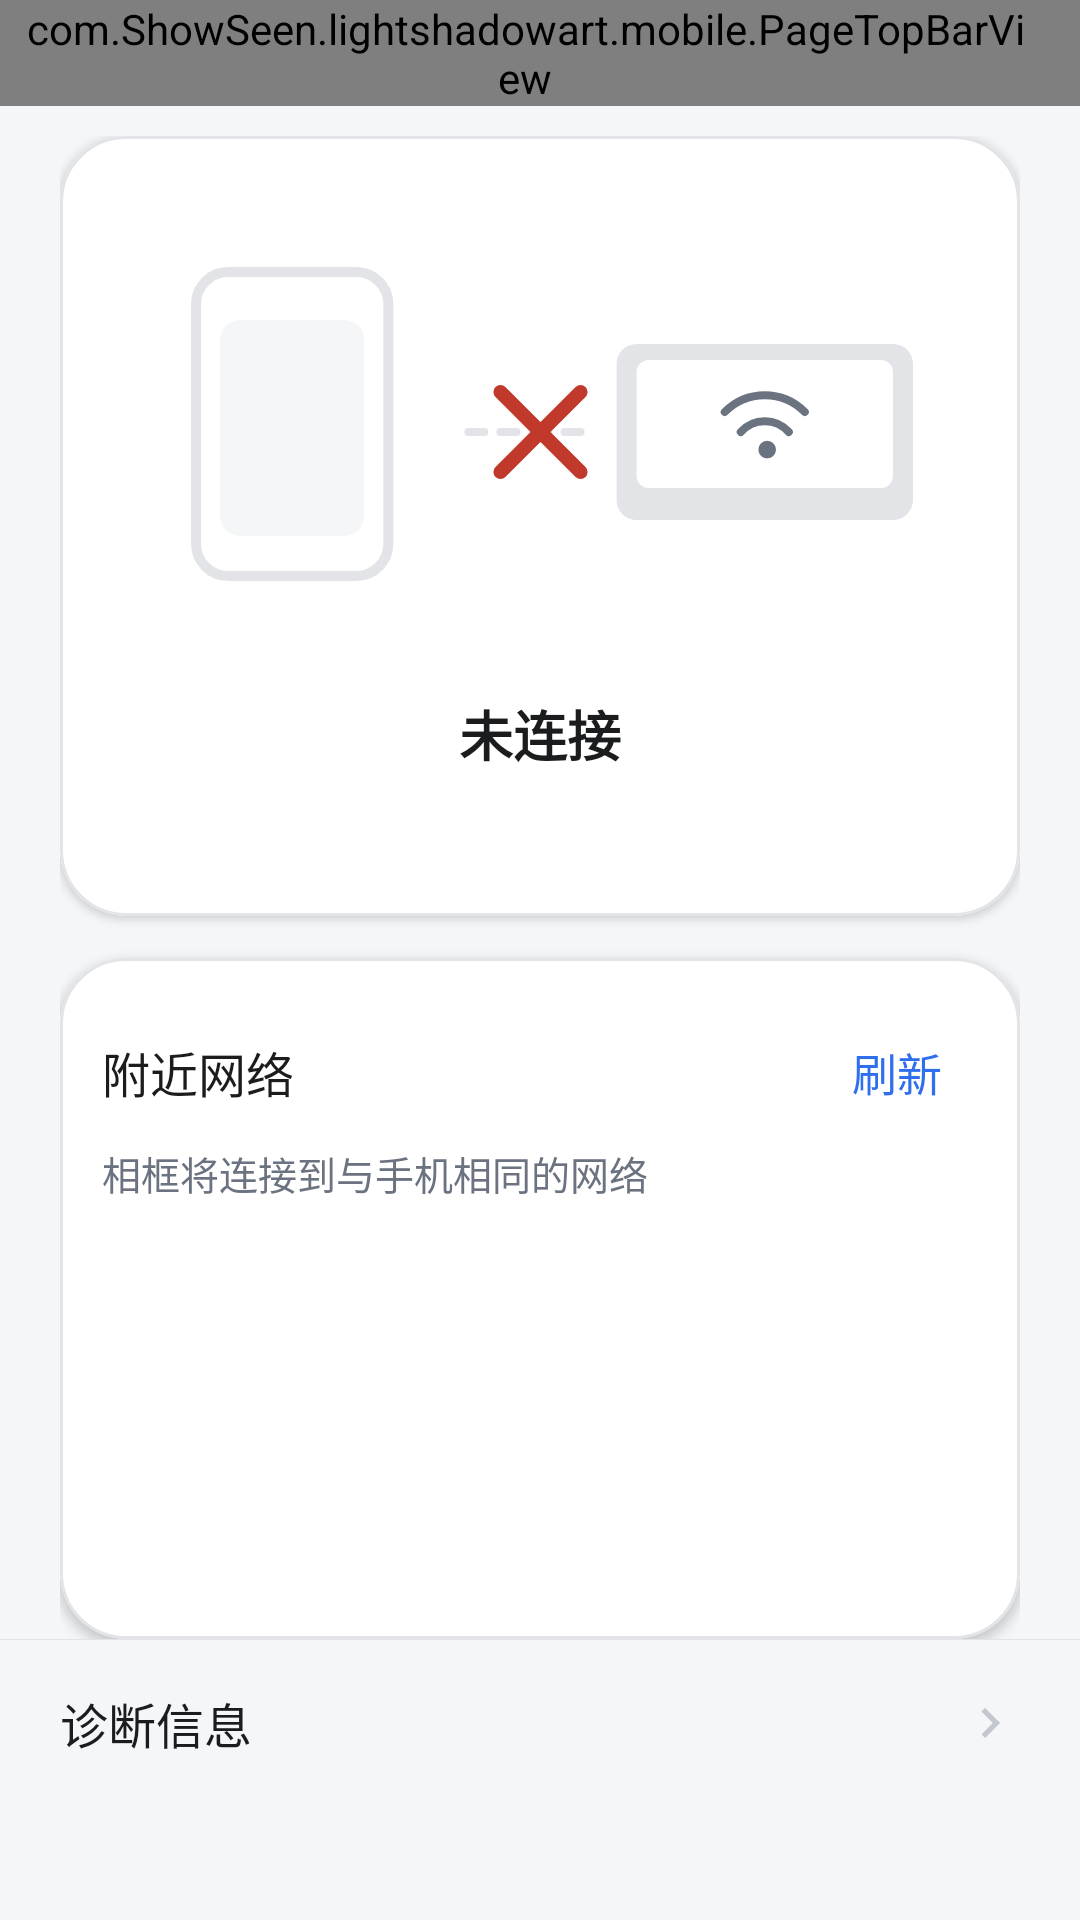

Point at icon controls on the screen. Image size 1080 x 1920, points as [x,y].
chevron right: [991,1723]
